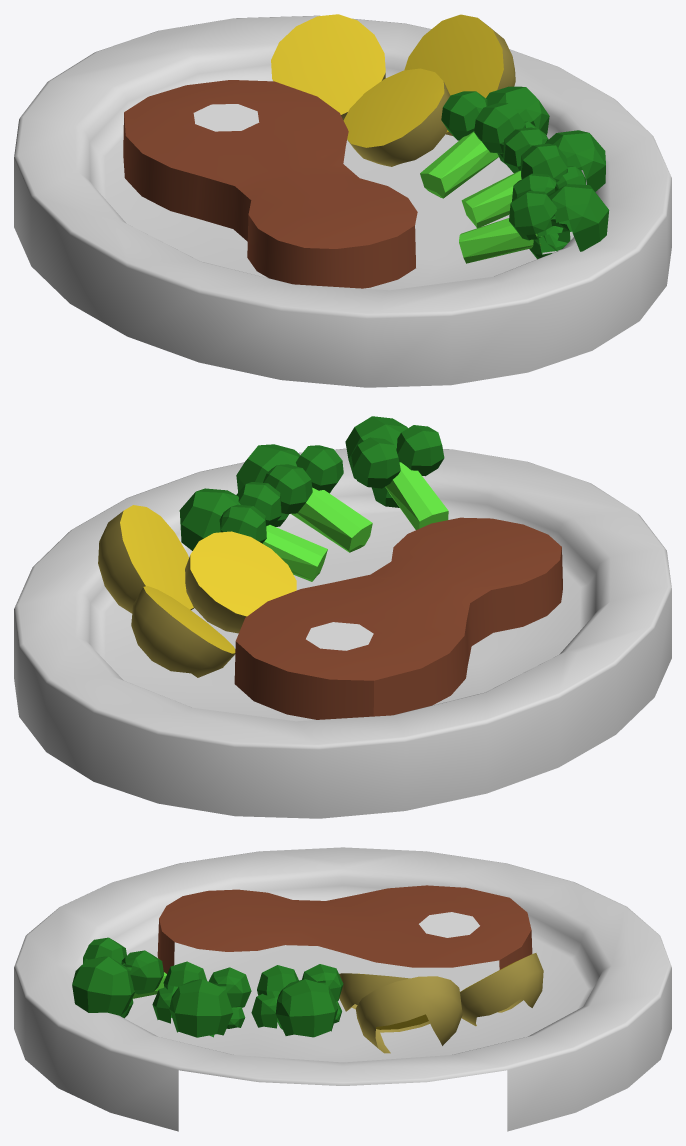
The model's file is beverage_1.fbx.
3 views of the same model, one above another, from view 1: azimuth 30°, elevation 25°; view 2: azimuth 150°, elevation 25°; view 3: azimuth 270°, elevation 25° (orthographic). The views are drawn at different scales.
Visible parts, largest first — view 1: meat_plate; view 2: meat_plate; view 3: meat_plate.
Part boxes in pixels (box(x1,y1,x2,y2)): meat_plate: box(14, 14, 671, 387); meat_plate: box(14, 416, 671, 818); meat_plate: box(14, 847, 671, 1131).
Bounding box in the file's own units: 200 × 50.81 × 235.
